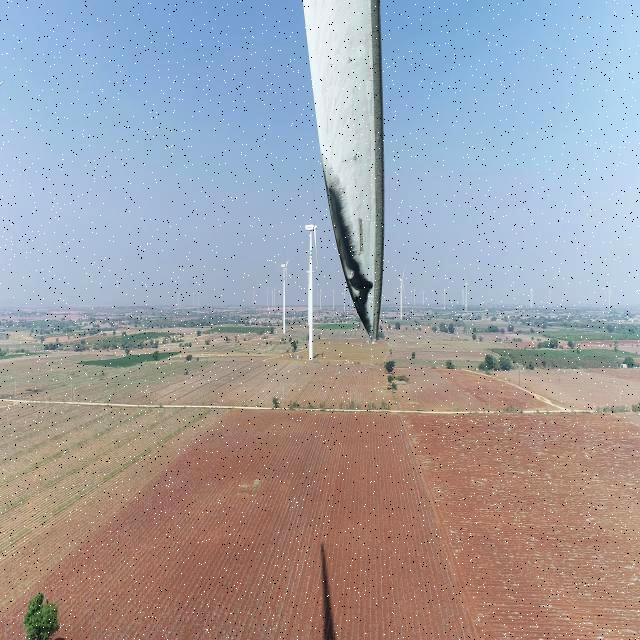Oil LEAKAGE: (319, 183, 376, 335)
Pin Hole: (364, 278, 378, 296), (351, 152, 359, 164), (346, 54, 354, 65)
